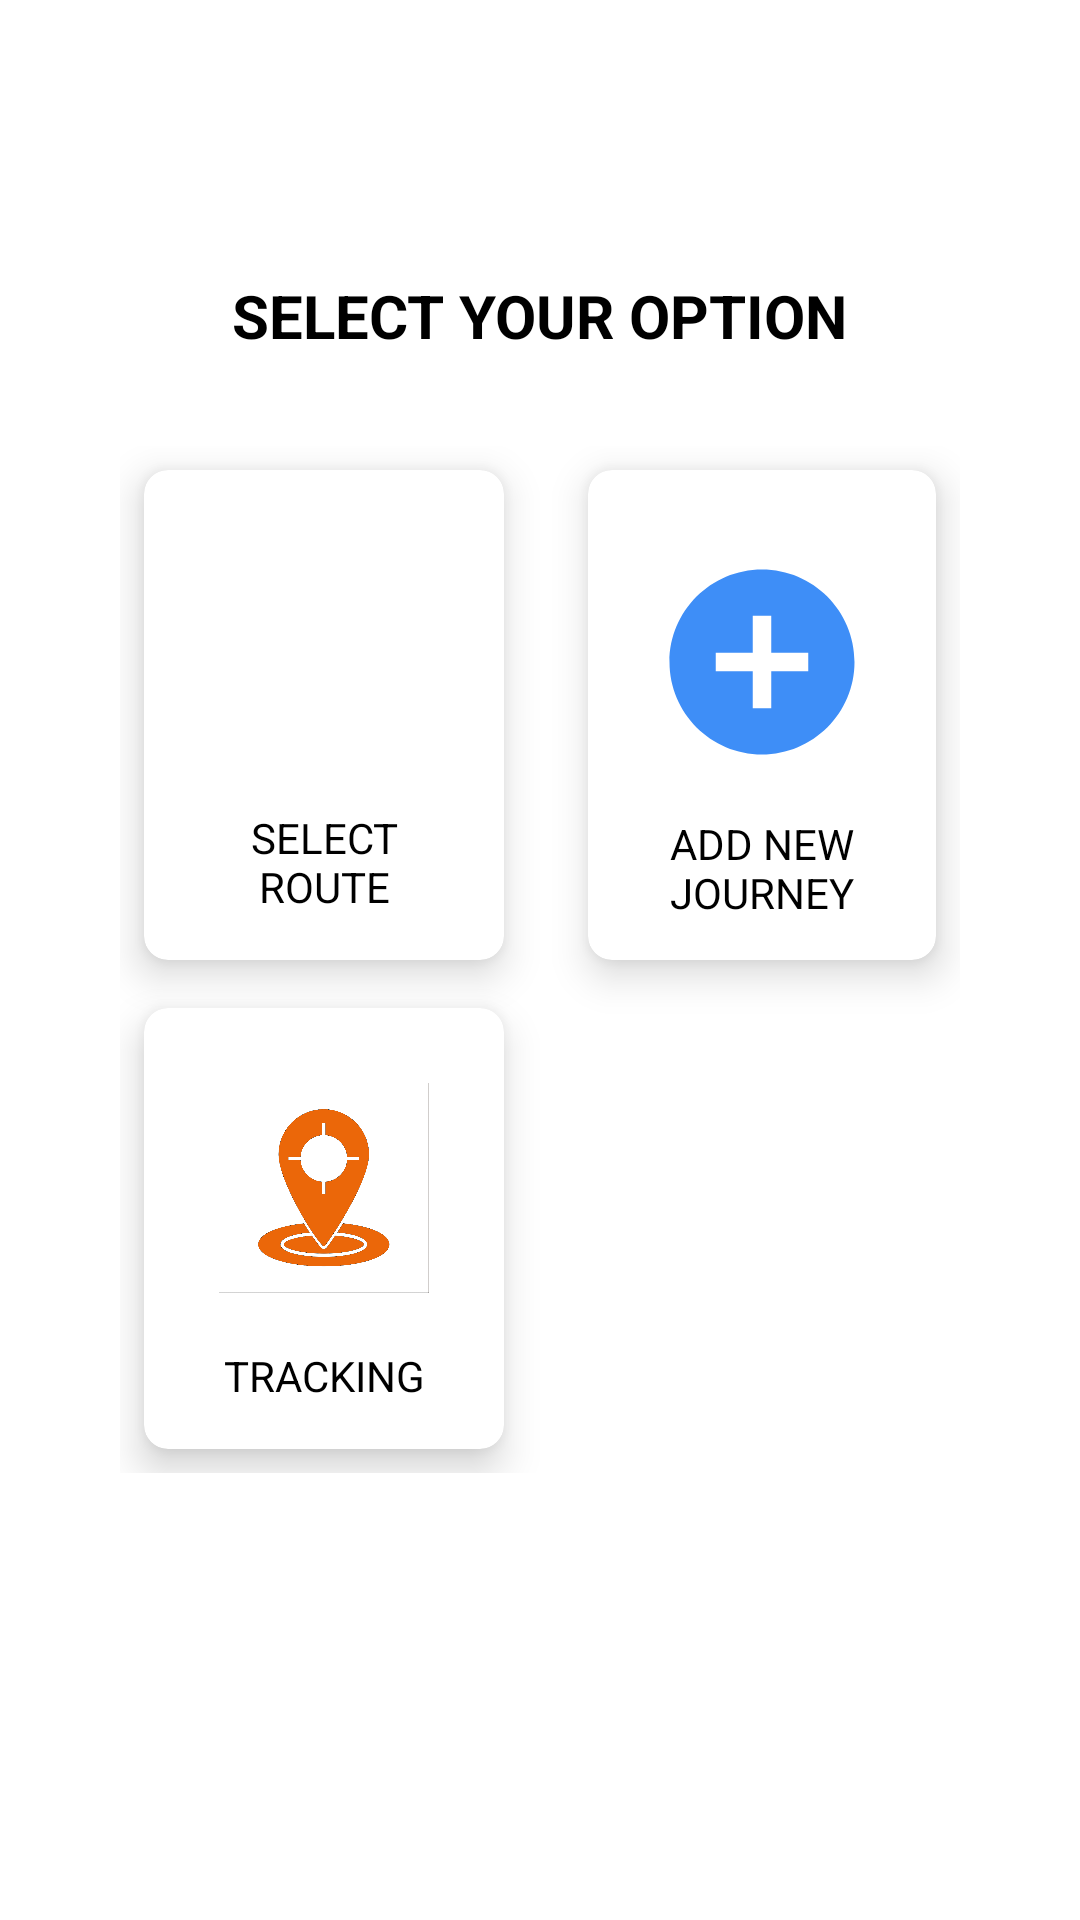

Locate icon controls on the screen. Image size 1080×1920, boxes as [x1, y1, x2, y2].
add circle: [669, 569, 855, 755]
